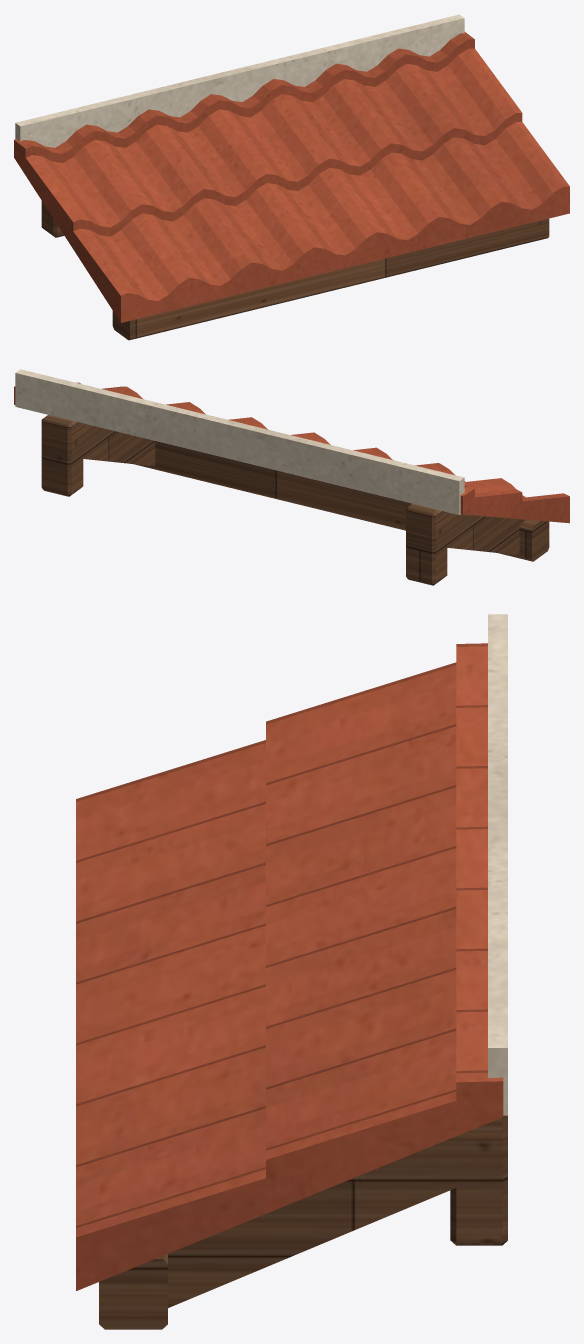
File: door_hood.glb
3 renders of one model, top to bottom at view 1: azimuth 30°, elevation 25°; view 2: azimuth 150°, elevation 25°; view 3: azimuth 270°, elevation 25°, orthographic. The views are drawn at different scales.
Visible parts, largest first — view 1: door_hood_tile_clay, door_hood_render, door_hood_wood; view 2: door_hood_wood, door_hood_render, door_hood_tile_clay; view 3: door_hood_tile_clay, door_hood_wood, door_hood_render.
Boxes of the visible parts, x1,y1,x2,y2 form: door_hood_tile_clay: [14, 32, 569, 322]; door_hood_render: [15, 14, 464, 147]; door_hood_wood: [41, 201, 549, 340]; door_hood_wood: [41, 415, 549, 585]; door_hood_render: [15, 369, 464, 514]; door_hood_tile_clay: [14, 382, 569, 523]; door_hood_tile_clay: [76, 643, 503, 1290]; door_hood_wood: [99, 1115, 507, 1329]; door_hood_render: [488, 614, 507, 1115].
Bounding box in the file's own units: 1.8 × 0.5635 × 0.75.
4 materials, 4 textured.
